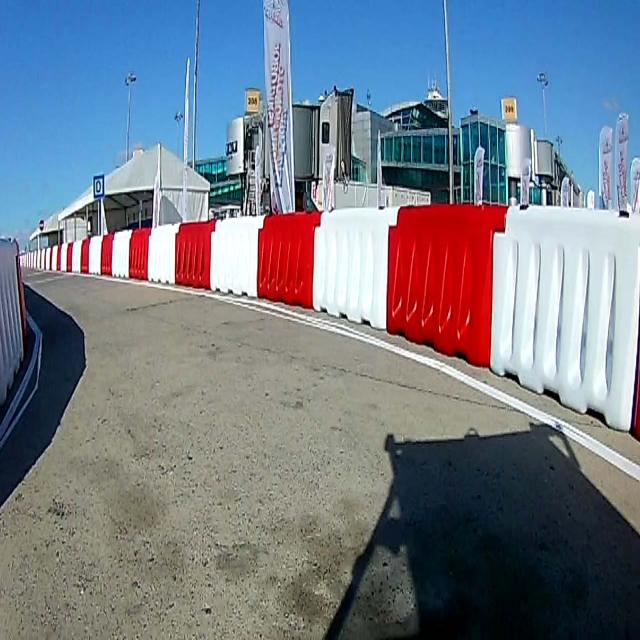durak: (93, 176, 105, 197)
